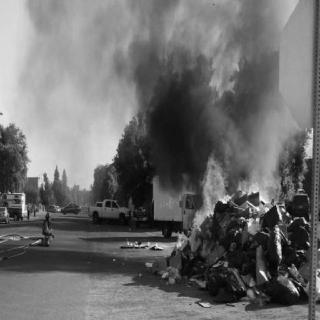Fire: (174, 138, 227, 248), (228, 166, 276, 206)
